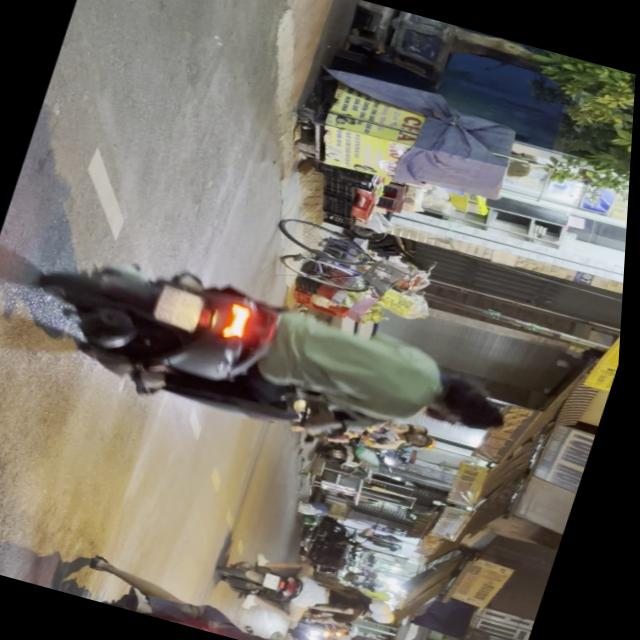licenseplate: (0, 225, 539, 490), (47, 545, 436, 640)
motorcyclist: (430, 376, 518, 437)
nohelmet: (156, 284, 210, 330), (269, 572, 289, 590)
